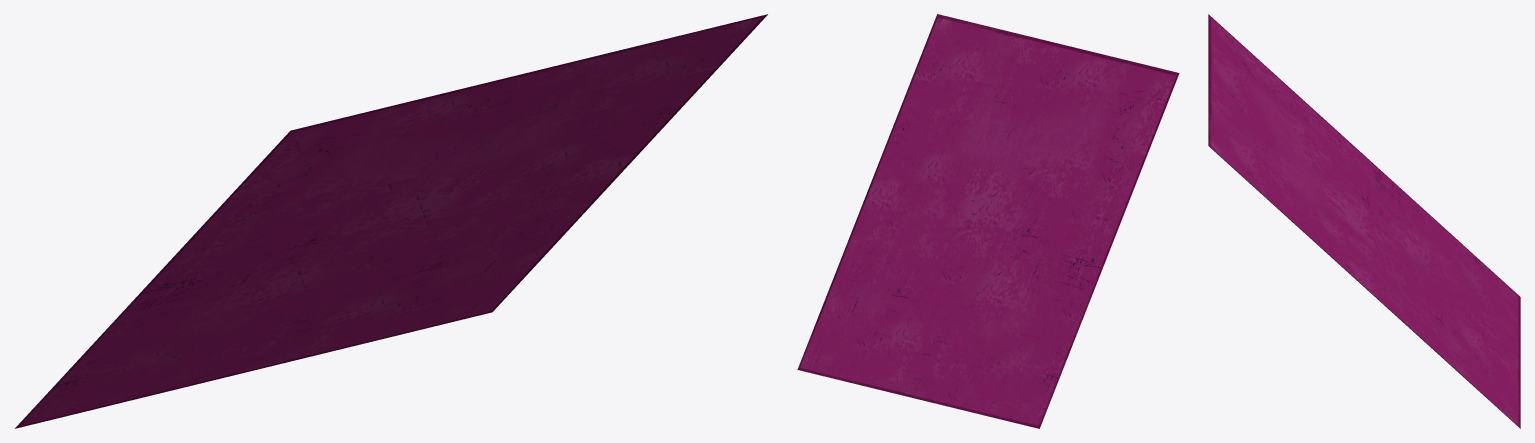
The model's file is Face_Slope_Large.fbx.
3 renders of one model, left to right at view 1: azimuth 30°, elevation 25°; view 2: azimuth 150°, elevation 25°; view 3: azimuth 270°, elevation 25°, orthographic. The views are drawn at different scales.
Visible parts, largest first — view 1: SlopePlate; view 2: SlopePlate; view 3: SlopePlate.
Boxes of the visible parts, <box> form: SlopePlate: <box>15,14,767,428</box>; SlopePlate: <box>797,14,1179,428</box>; SlopePlate: <box>1208,14,1520,428</box>.
Bounding box in the file's own units: 2.5 × 2.5 × 2.5.
